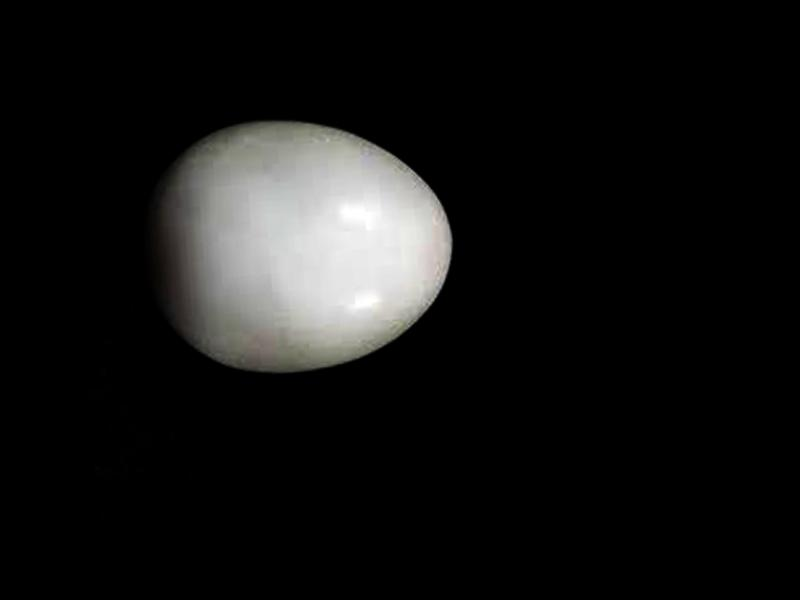Eggs: (130, 110, 459, 381)
